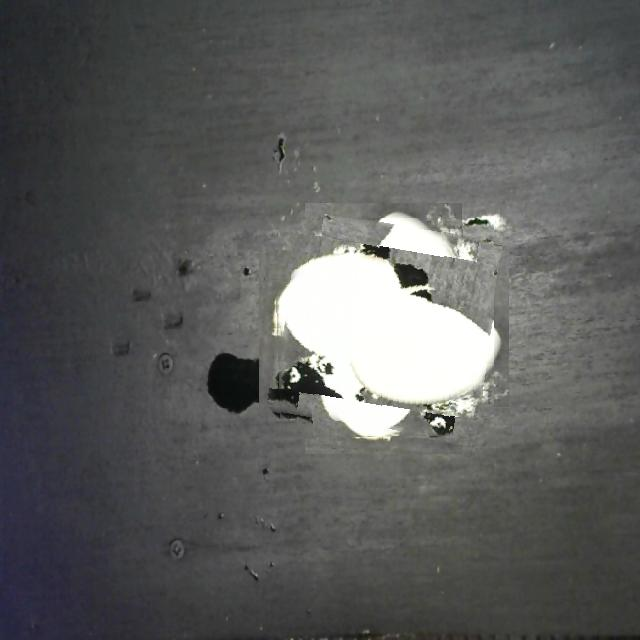biodegradable: (273, 218, 494, 438)
